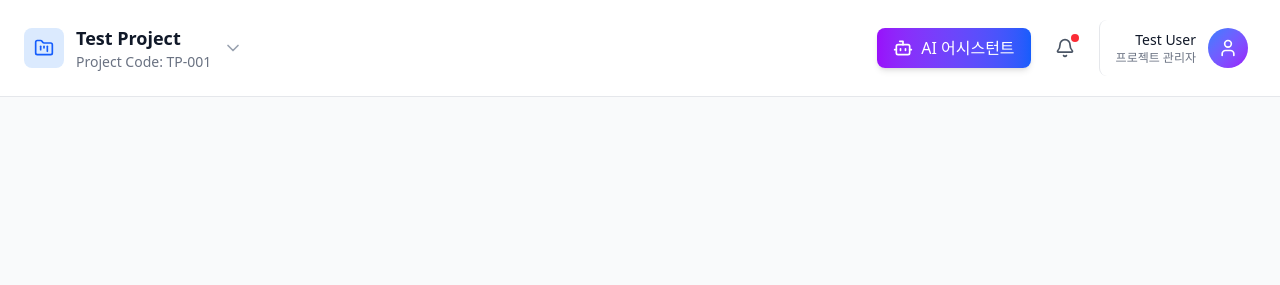
Test case: Header › project selector › opens project menu when clicked
Click the button "Test Project Project Code: TP-001". click: click(134, 48)
box: [16,16,251,80]
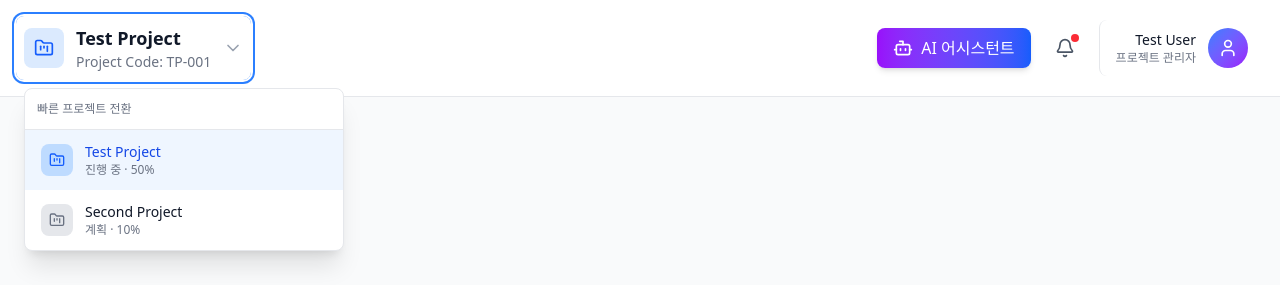
Now the text "빠른 프로젝트 전환" is shown, box [37,100,132,117]
